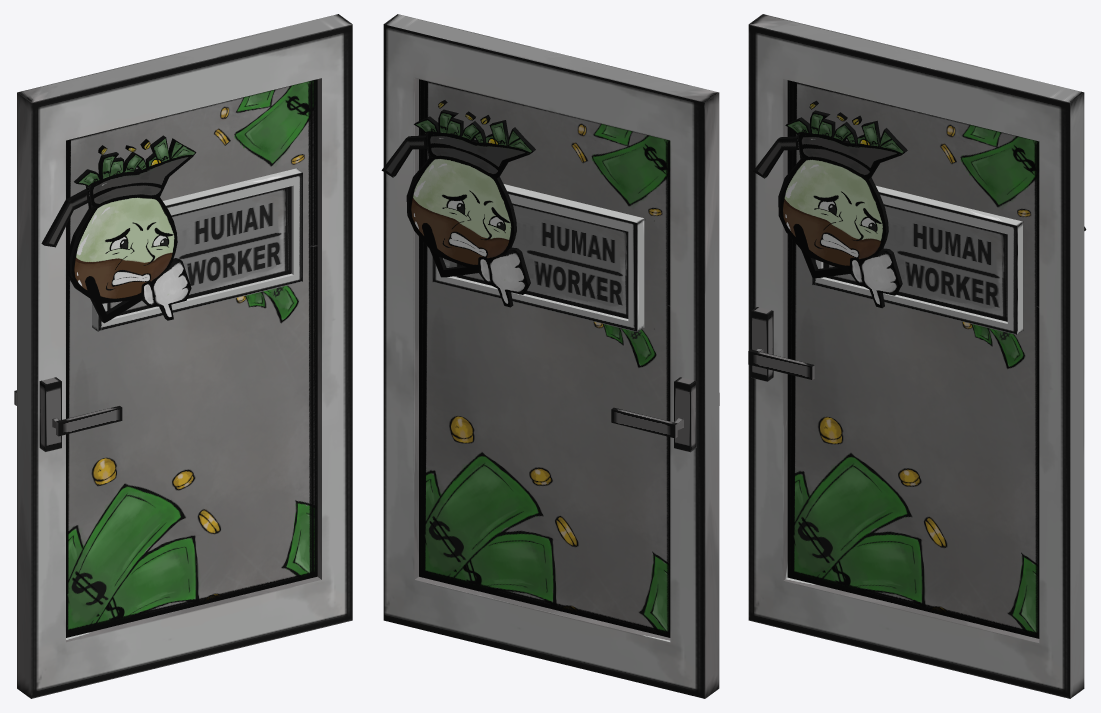
File: Office Door.glb
3 renders of one model, left to right at view 1: azimuth 30°, elevation 25°; view 2: azimuth 150°, elevation 25°; view 3: azimuth 330°, elevation 25°, orthographic.
Parts seen in each view (by area): view 1: Door, Cube.004; view 2: Door, Cube.001; view 3: Door, Cube.004.
Boxes of the visible parts, x1,y1,x2,y2 form: Door: (17, 14, 352, 698); Cube.004: (56, 406, 122, 436); Door: (381, 14, 719, 698); Cube.001: (611, 407, 677, 438); Door: (748, 14, 1086, 698); Cube.004: (748, 349, 814, 379).
Bounding box in the file's own units: 11.89 × 21.06 × 2.82.
1 material, 1 textured.
